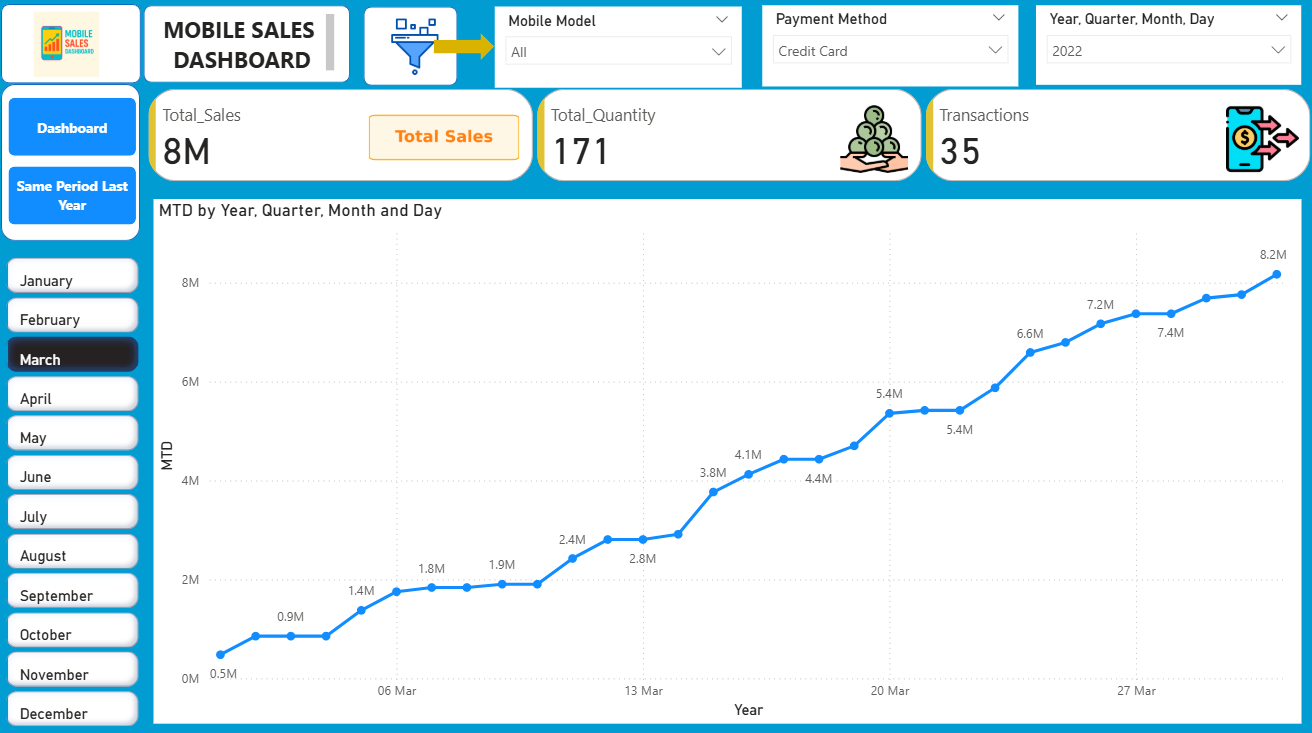

The page's visual inventory and layout, read from the dashboard file:
{"tool":"powerbi","page":{"name":"MTD Report","canvas":[1280,720],"ordinal":1},"visuals":[{"type":"shape","box":[10,10,135,76.7],"z":0},{"type":"shape","box":[10.1,86.6,134.2,151.5],"z":1000},{"type":"cardVisual","fields":{"Data":["Sales_Data.Total_Sales","Sales_Data.Total_Quantity","Sales_Data.Transactions"]},"box":[147.7,87.2,1131.9,99.7],"z":2000},{"type":"slicer","fields":{"Values":["Sales_Data.Payment Method"]},"box":[744,10.7,247.4,78.3],"z":3000},{"type":"slicer","fields":{"Values":["Custom_Calender.Date.Variation.Date Hierarchy.Year","Custom_Calender.Date.Variation.Date Hierarchy.Quarter","Custom_Calender.Date.Variation.Date Hierarchy.Month","Custom_Calender.Date.Variation.Date Hierarchy.Day"]},"box":[1009.1,10.7,256.3,76.5],"z":4000},{"type":"slicer","fields":{"Values":["Sales_Data.Mobile Model"]},"box":[485.9,12.5,238.5,78.3],"z":5000},{"type":"shape","box":[359.5,12.5,90.8,76.5],"z":6000},{"type":"image","box":[359.5,17.8,99.7,65.9],"z":7000},{"type":"shape","box":[427.1,37.4,58.7,26.7],"z":8000},{"type":"shape","box":[147.7,10.7,199.3,74.8],"z":9000},{"type":"textbox","box":[156.6,14.2,179.8,65.9],"z":10000},{"type":"lineChart","fields":{"Y":["Sales_Data.MTD"],"Category":["Custom_Calender.Date.Variation.Date Hierarchy.Year","Custom_Calender.Date.Variation.Date Hierarchy.Quarter","Custom_Calender.Date.Variation.Date Hierarchy.Month","Custom_Calender.Date.Variation.Date Hierarchy.Day"]},"box":[156.7,198.3,1108.3,506.7],"z":11000},{"type":"advancedSlicerVisual","fields":{"Values":["Custom_Calender.Date.Variation.Date Hierarchy.Month"]},"box":[10,250,138.3,470],"z":11001},{"type":"pageNavigator","box":[16.7,100,123.3,123.3],"z":11002},{"type":"image","box":[1.7,11.7,143.3,73.3],"z":11003}]}

Visuals, with their boxes in screenshot pixels (x1, y1, x2, y2), scaled from the page's 1280x720 canvas onto the 1312x733 screenshot:
shape: box=[10, 10, 149, 88]
shape: box=[10, 88, 148, 242]
cardVisual - Sales_Data.Total_Sales x Sales_Data.Total_Quantity: box=[151, 89, 1311, 190]
slicer - Sales_Data.Payment Method: box=[763, 11, 1016, 91]
slicer - Custom_Calender.Date.Variation.Date Hierarchy.Year x Custom_Calender.Date.Variation.Date Hierarchy.Quarter: box=[1034, 11, 1297, 89]
slicer - Sales_Data.Mobile Model: box=[498, 13, 743, 92]
shape: box=[368, 13, 462, 91]
image: box=[368, 18, 471, 85]
shape: box=[438, 38, 498, 65]
shape: box=[151, 11, 356, 87]
textbox: box=[161, 14, 345, 82]
lineChart - Sales_Data.MTD x Custom_Calender.Date.Variation.Date Hierarchy.Year: box=[161, 202, 1297, 718]
advancedSlicerVisual - Custom_Calender.Date.Variation.Date Hierarchy.Month: box=[10, 255, 152, 732]
pageNavigator: box=[17, 102, 144, 227]
image: box=[2, 12, 149, 87]
